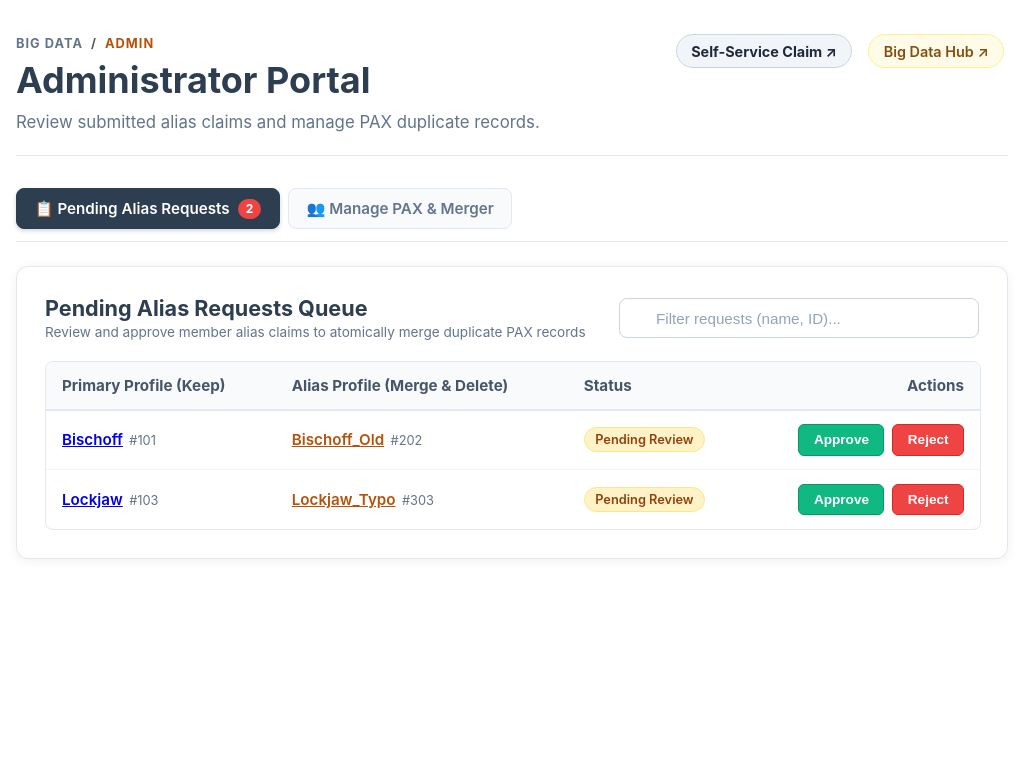
Admin Portal Components › AdminAliasRequests Component › rejects a pending alias request
Expected: the link "Bischoff_Old" is shown, [292,430,384,449]
# Click Reject for first item
Click the button "Reject" in the row of "101" at (928, 440), box [892,424,964,456]
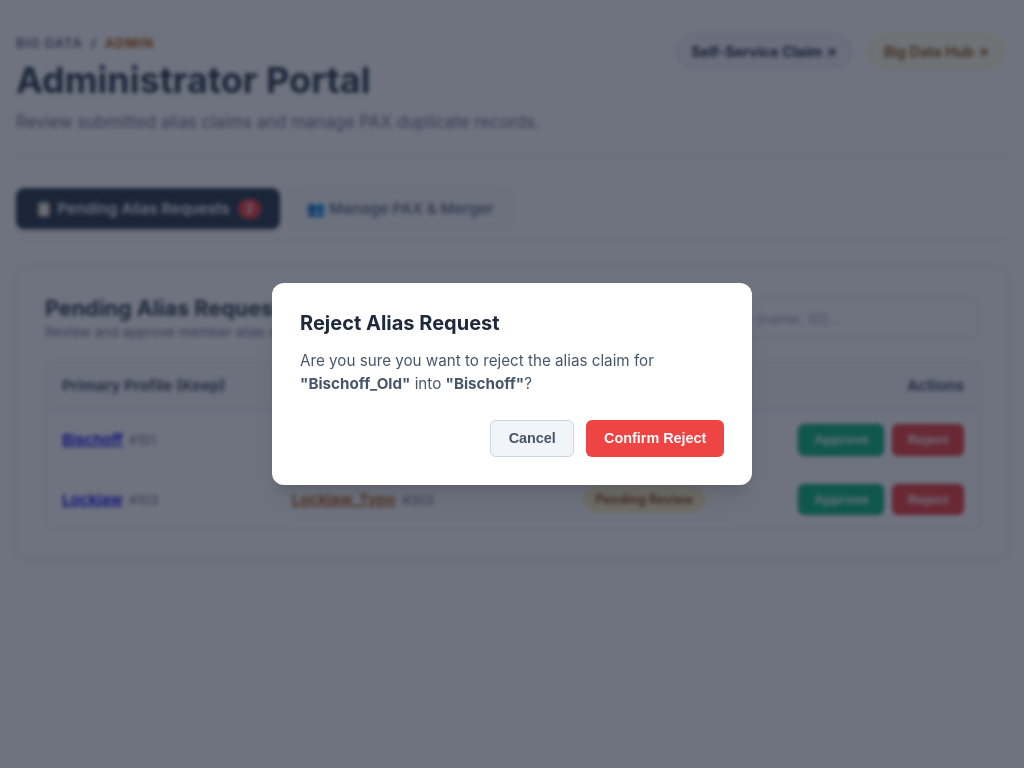
Result: the heading "Reject Alias Request" is shown at [300,311,500,335]
# Confirm reject
Click the button "Confirm Reject" at (655, 438), box [586,420,724,457]
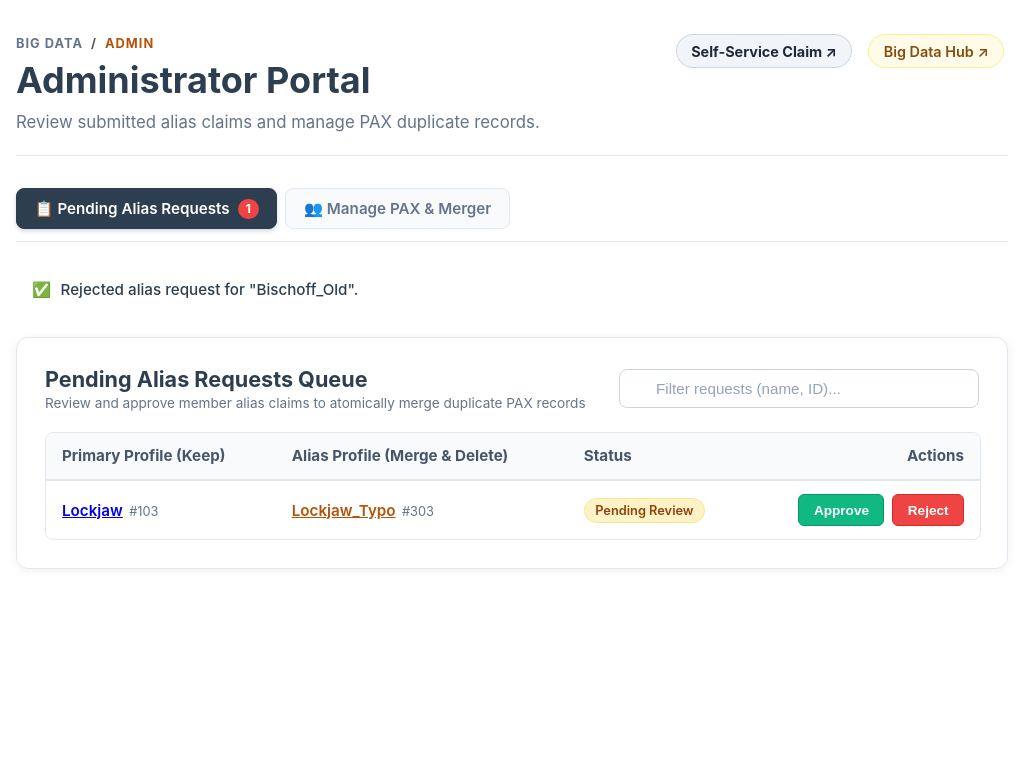
Result: the text "Rejected alias request for \"Bischoff_Old\"." is shown at [61,280,358,299]
